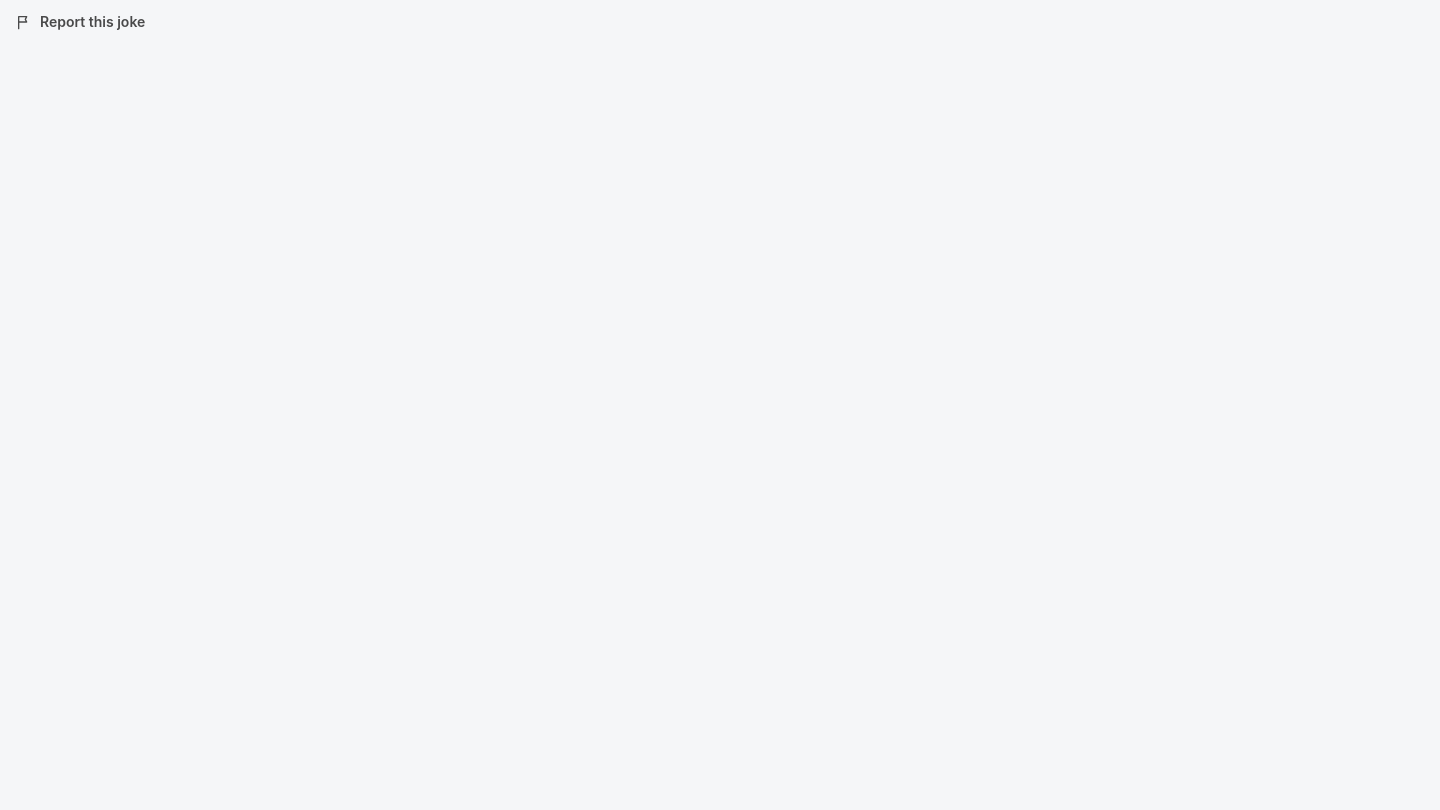
ReportButton (US-15) › lets a member pick a reason and send it, under StrictMode
The width and height of the screenshot is (1440, 810).
Click the button "Report this joke" at (81, 22), box top-left (0, 0), bottom-right (161, 44)
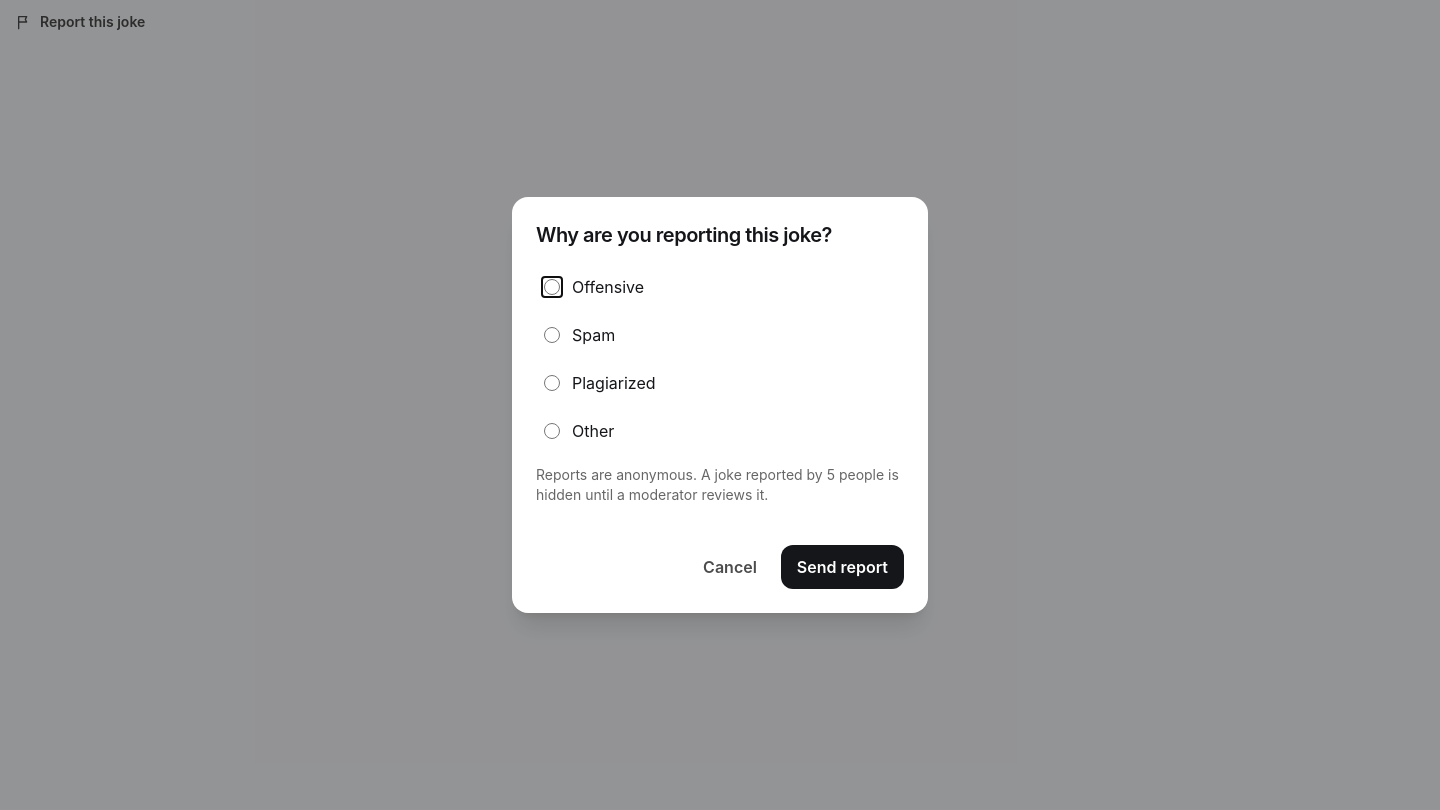
Click the radio button labelled "Spam" at (552, 335), box top-left (544, 327), bottom-right (560, 343)
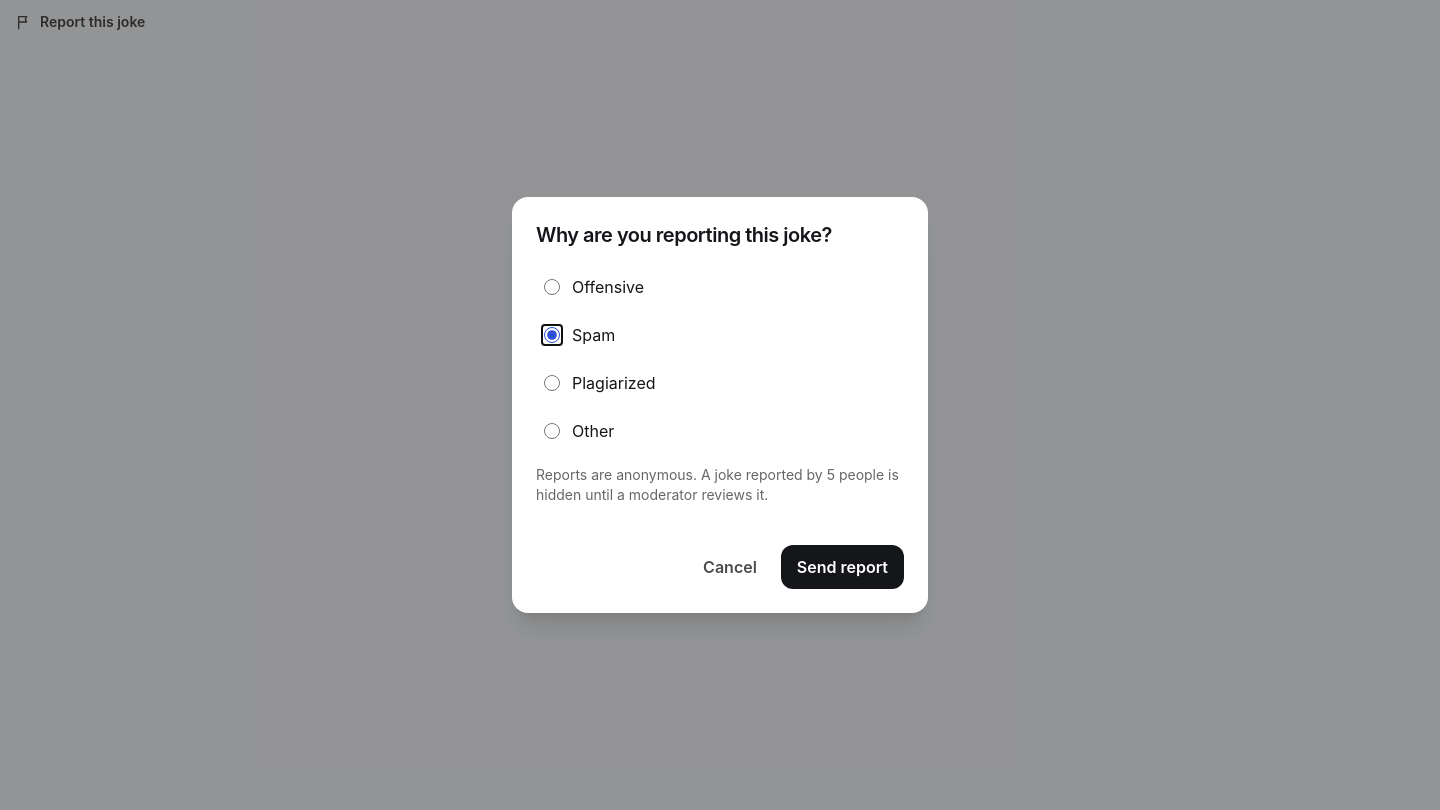
Click the button "Send report" at (842, 567), box top-left (781, 545), bottom-right (904, 589)
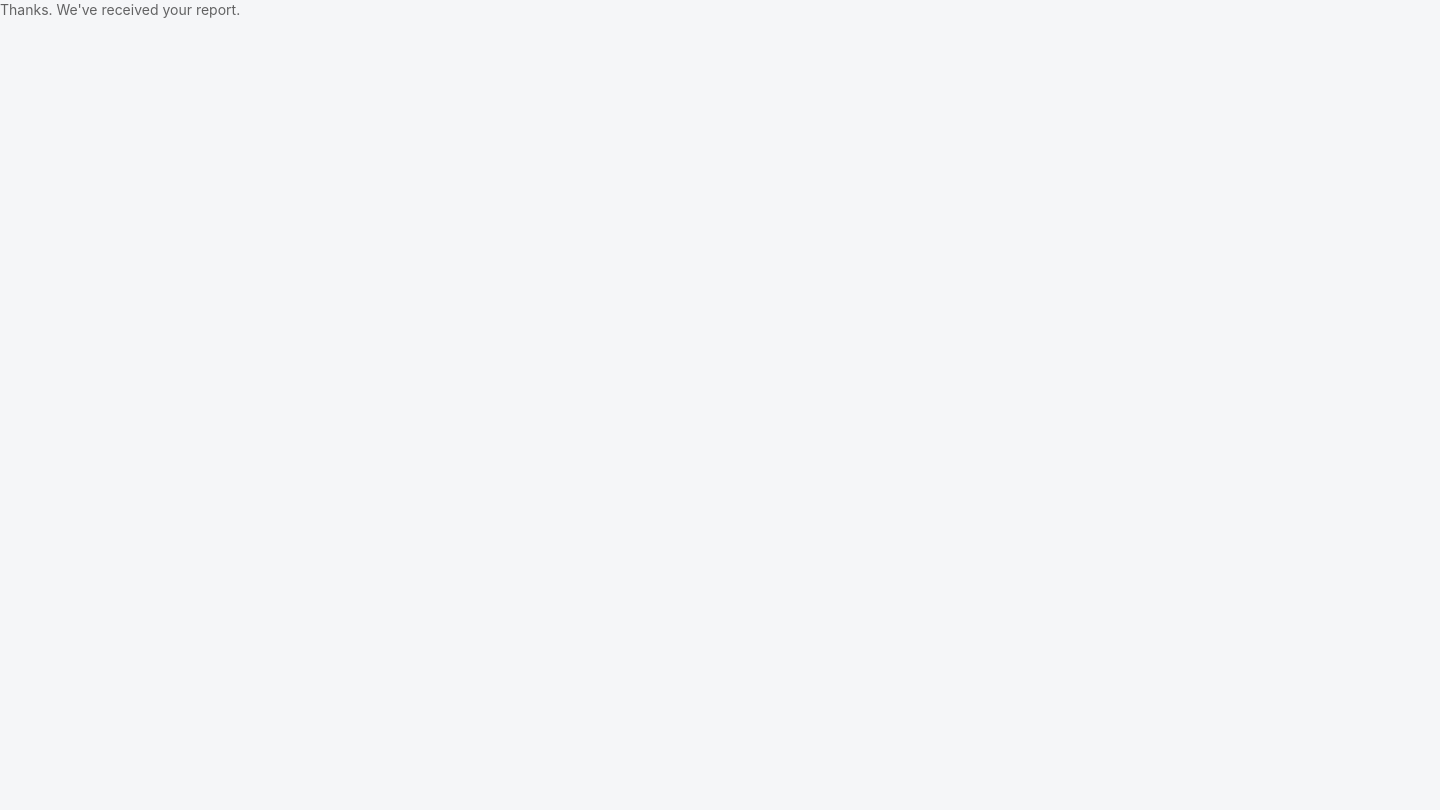
Expected: the message shows "received your report", top-left (0, 1), bottom-right (240, 18)
